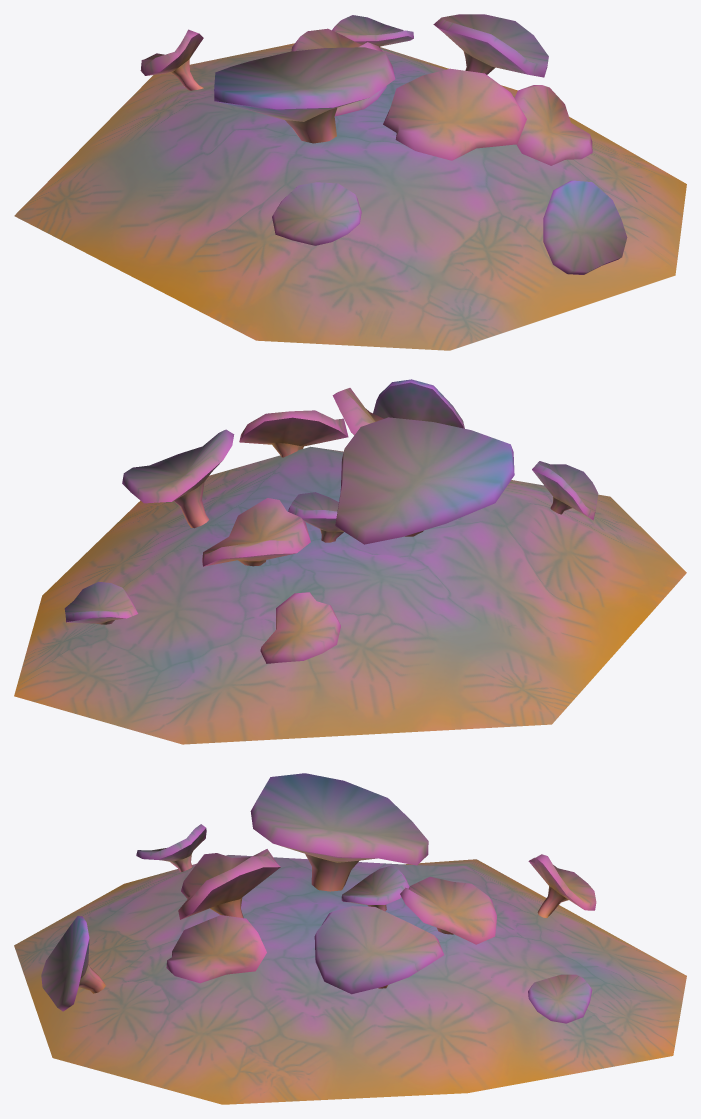
The model's file is Spaceplant_Undergrowth_A_Cluster_A.fbx.
3 renders of one model, top to bottom at view 1: azimuth 30°, elevation 25°; view 2: azimuth 150°, elevation 25°; view 3: azimuth 270°, elevation 25°, orthographic. The views are drawn at different scales.
Parts seen in each view (by area): view 1: Geometry_Spaceplant_Undergrowth_A_Cluster_A_Base_LOD00, Geometry_Spaceplant_Undergrowth_A_Cluster_A_Detail_LOD00; view 2: Geometry_Spaceplant_Undergrowth_A_Cluster_A_Base_LOD00, Geometry_Spaceplant_Undergrowth_A_Cluster_A_Detail_LOD00; view 3: Geometry_Spaceplant_Undergrowth_A_Cluster_A_Base_LOD00, Geometry_Spaceplant_Undergrowth_A_Cluster_A_Detail_LOD00.
Boxes of the visible parts, left/top/right/bottom form: Geometry_Spaceplant_Undergrowth_A_Cluster_A_Base_LOD00: left=14, top=43, right=686, bottom=350; Geometry_Spaceplant_Undergrowth_A_Cluster_A_Detail_LOD00: left=140, top=14, right=627, bottom=274; Geometry_Spaceplant_Undergrowth_A_Cluster_A_Base_LOD00: left=14, top=446, right=686, bottom=744; Geometry_Spaceplant_Undergrowth_A_Cluster_A_Detail_LOD00: left=64, top=379, right=598, bottom=663; Geometry_Spaceplant_Undergrowth_A_Cluster_A_Base_LOD00: left=14, top=855, right=686, bottom=1104; Geometry_Spaceplant_Undergrowth_A_Cluster_A_Detail_LOD00: left=41, top=773, right=596, bottom=1023.
Size of what is drawn, in the model's own units: 250 by 72.53 by 290.
